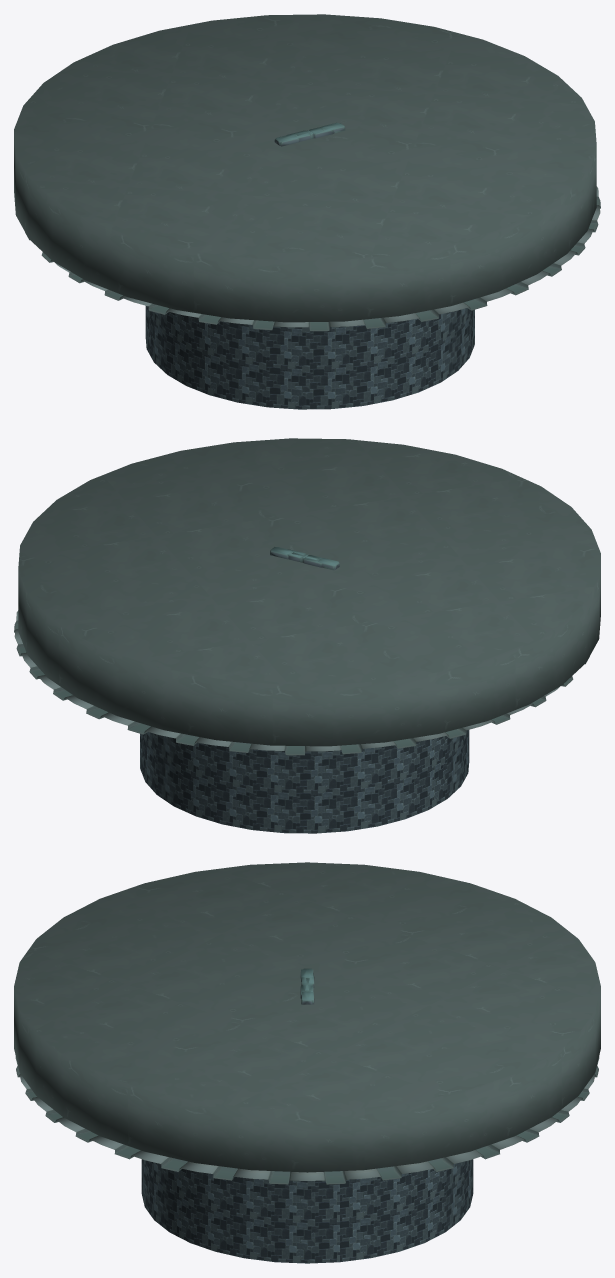
Rendered from RockRollingObj.fbx.
3 renders of one model, top to bottom at view 1: azimuth 30°, elevation 25°; view 2: azimuth 150°, elevation 25°; view 3: azimuth 270°, elevation 25°, orthographic.
Visible parts, largest first — view 1: SM_Ceiling_Round, SM_Boss_Room_Floor; view 2: SM_Ceiling_Round, SM_Boss_Room_Floor; view 3: SM_Ceiling_Round, SM_Boss_Room_Floor.
Boxes of the visible parts, x1,y1,x2,y2 form: SM_Ceiling_Round: [14, 14, 600, 331]; SM_Boss_Room_Floor: [145, 306, 474, 409]; SM_Ceiling_Round: [14, 438, 600, 755]; SM_Boss_Room_Floor: [140, 730, 469, 833]; SM_Ceiling_Round: [14, 862, 600, 1184]; SM_Boss_Room_Floor: [141, 1159, 473, 1263].
Size of what is drawn, in the model's own units: 4102 by 1598 by 4073.
